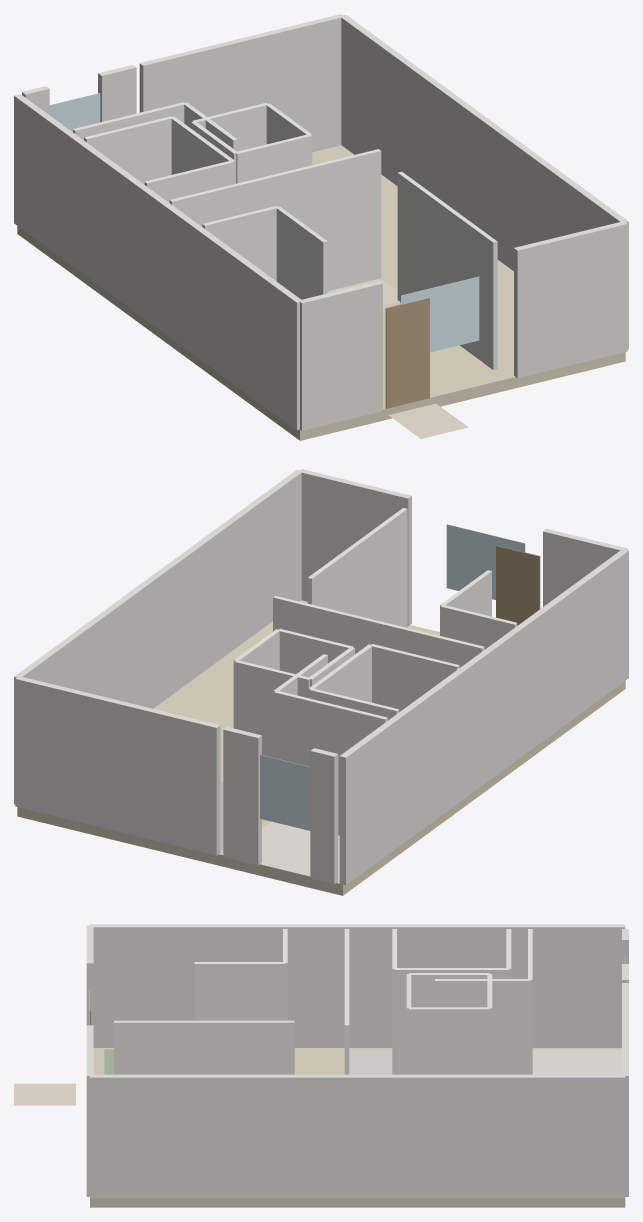
The model's file is villa_1F.glb.
3 views of the same model, one above another, from view 1: azimuth 30°, elevation 25°; view 2: azimuth 150°, elevation 25°; view 3: azimuth 270°, elevation 25° (orthographic). The views are drawn at different scales.
Visible parts, largest first — view 1: ExtWall_W, ExtWall_E, ExtWall_N_E, ExtWall_S_E, ExtWall_S_W, Slab_1F, IntWall_Divider, IntWall_Corr_S, Door_Main, IntWall_Entry_N, IntWall_Bath_E, IntWall_Stair_N (+14 smaller); view 2: ExtWall_W, ExtWall_E, ExtWall_N_E, Slab_1F, IntWall_Divider, ExtWall_S_E, IntWall_Kitchen_S, ExtWall_N_W2, ExtWall_N_W1, IntWall_Corr_S, IntWall_Stair_S, IntWall_Elev.002 (+14 smaller); view 3: ExtWall_E, ExtWall_W, IntWall_Divider, Slab_1F, IntWall_Elev.001, IntWall_Bath_E, IntWall_Kitchen_E, Floor_Kitchen, IntWall_Stair_E, Floor_Annex, IntWall_Elev, Floor_Corridor (+8 smaller).
Boxes of the visible parts, left/top/right/bottom form: ExtWall_W: left=14, top=94, right=301, bottom=430; ExtWall_E: left=340, top=14, right=628, bottom=349; ExtWall_N_E: left=139, top=14, right=343, bottom=152; ExtWall_S_E: left=514, top=221, right=627, bottom=378; ExtWall_S_W: left=298, top=281, right=382, bottom=430; Slab_1F: left=17, top=145, right=625, bottom=440; IntWall_Divider: left=397, top=171, right=497, bottom=369; IntWall_Corr_S: left=169, top=156, right=350, bottom=290; Door_Main: left=385, top=298, right=429, bottom=408; IntWall_Entry_N: left=261, top=149, right=381, bottom=285; IntWall_Bath_E: left=276, top=206, right=327, bottom=299; IntWall_Stair_N: left=84, top=116, right=172, bottom=184; ExtWall_W: left=339, top=550, right=628, bottom=885; ExtWall_E: left=14, top=469, right=302, bottom=804; ExtWall_N_E: left=15, top=676, right=220, bottom=855; Slab_1F: left=17, top=600, right=625, bottom=895; IntWall_Divider: left=307, top=508, right=407, bottom=627; ExtWall_S_E: left=298, top=469, right=411, bottom=625; IntWall_Kitchen_S: left=274, top=690, right=387, bottom=835; ExtWall_N_W2: left=223, top=727, right=261, bottom=865; ExtWall_N_W1: left=310, top=748, right=338, bottom=884; IntWall_Corr_S: left=304, top=604, right=484, bottom=667; IntWall_Stair_S: left=370, top=644, right=459, bottom=711; IntWall_Elev.002: left=234, top=660, right=309, bottom=757; ExtWall_E: left=90, top=1074, right=625, bottom=1198; ExtWall_W: left=90, top=924, right=625, bottom=1047; IntWall_Divider: left=114, top=1020, right=294, bottom=1074; Slab_1F: left=90, top=1048, right=625, bottom=1207; IntWall_Elev.001: left=409, top=1007, right=489, bottom=1074; IntWall_Bath_E: left=194, top=962, right=285, bottom=1020; IntWall_Kitchen_E: left=435, top=979, right=530, bottom=1074; Floor_Kitchen: left=532, top=1049, right=621, bottom=1074; IntWall_Stair_E: left=394, top=968, right=508, bottom=1074; Floor_Annex: left=14, top=1083, right=75, bottom=1105; IntWall_Elev: left=409, top=973, right=489, bottom=1007; Floor_Corridor: left=349, top=1049, right=392, bottom=1074.
Bounding box in the file's own units: 7.62 × 3.05 × 12.92.
